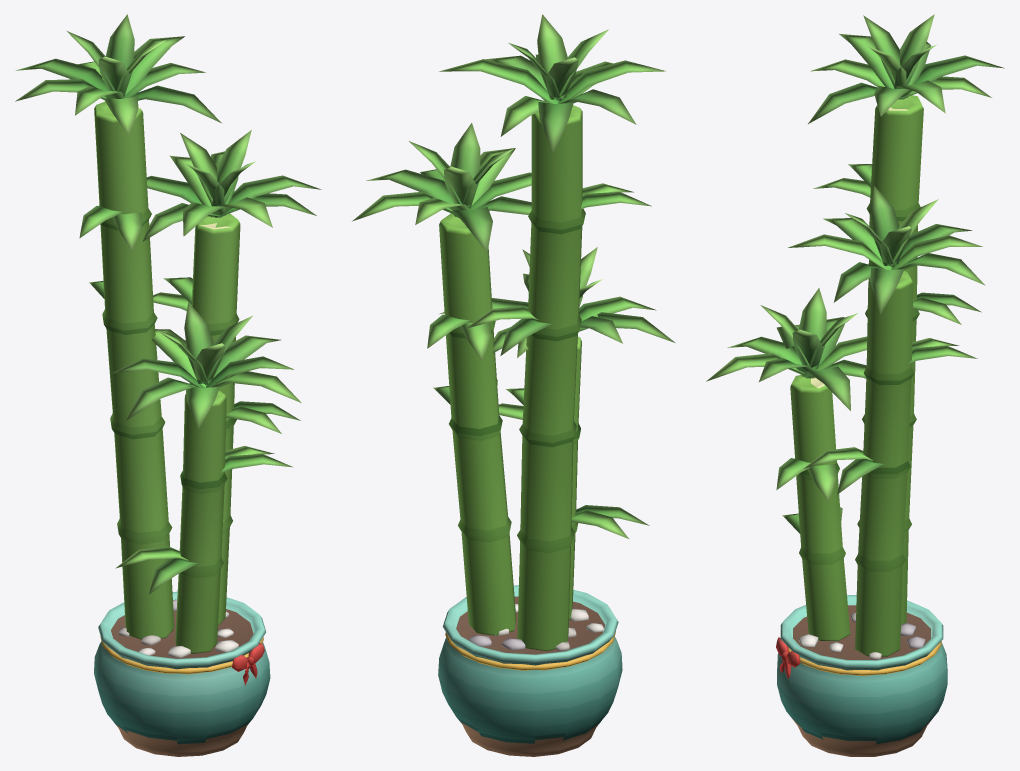
The model's file is furn-bambooPlanter.glb.
3 renders of one model, left to right at view 1: azimuth 30°, elevation 25°; view 2: azimuth 150°, elevation 25°; view 3: azimuth 270°, elevation 25°, orthographic. The views are drawn at different scales.
Parts seen in each view (by area): view 1: furn; view 2: furn; view 3: furn.
Part boxes in pixels (x1,y1,x2,y2): furn: [15, 14, 320, 756]; furn: [352, 14, 675, 756]; furn: [706, 14, 1004, 756].
Size of the model in its own units: 0.7231 by 1.69 by 0.6729.
